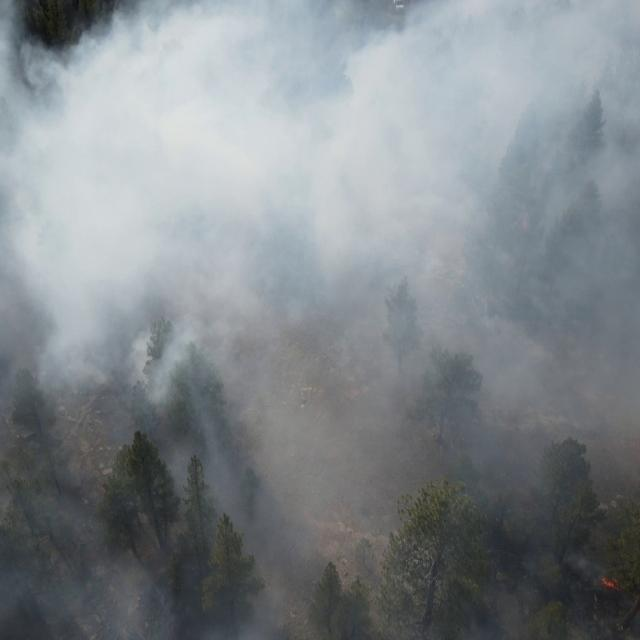fire: (598, 572, 624, 593)
smoke: (0, 45, 640, 640), (80, 0, 640, 45), (0, 0, 30, 46)
